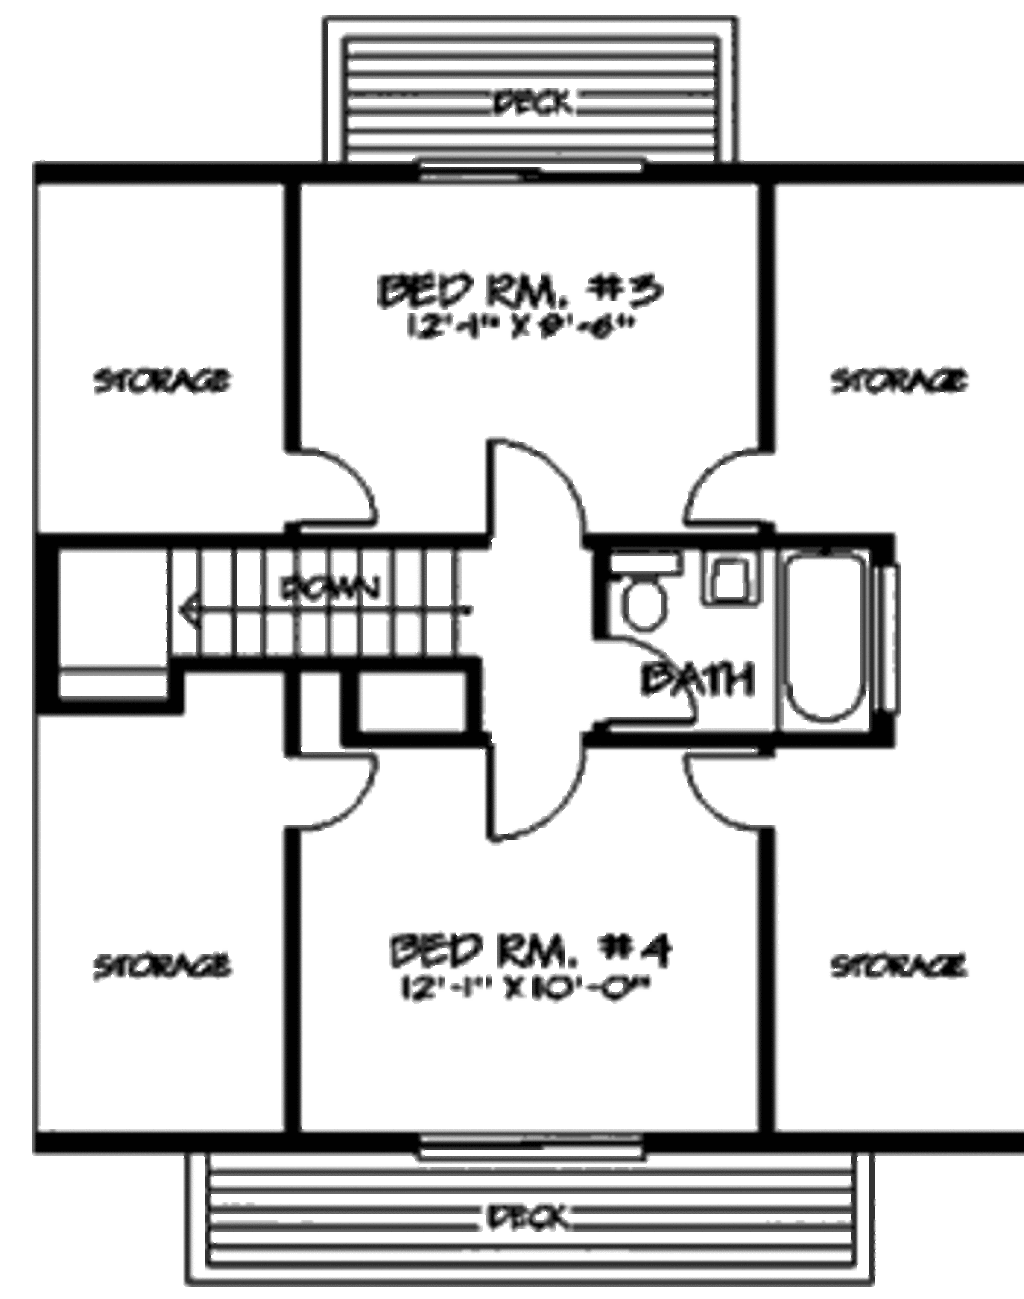door: (474, 431, 591, 545), (590, 629, 709, 737), (467, 745, 585, 844), (277, 451, 395, 527), (275, 747, 381, 831), (679, 433, 769, 527), (683, 749, 785, 827)
large_sink: (605, 552, 681, 627)
small_sink: (703, 551, 777, 625)
stairs: (165, 534, 459, 667)
tub: (783, 543, 873, 735)
window: (423, 149, 657, 193), (417, 1119, 653, 1153), (871, 561, 911, 709)
